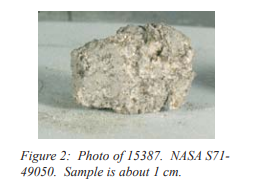Basalt: (55, 15, 207, 125)
